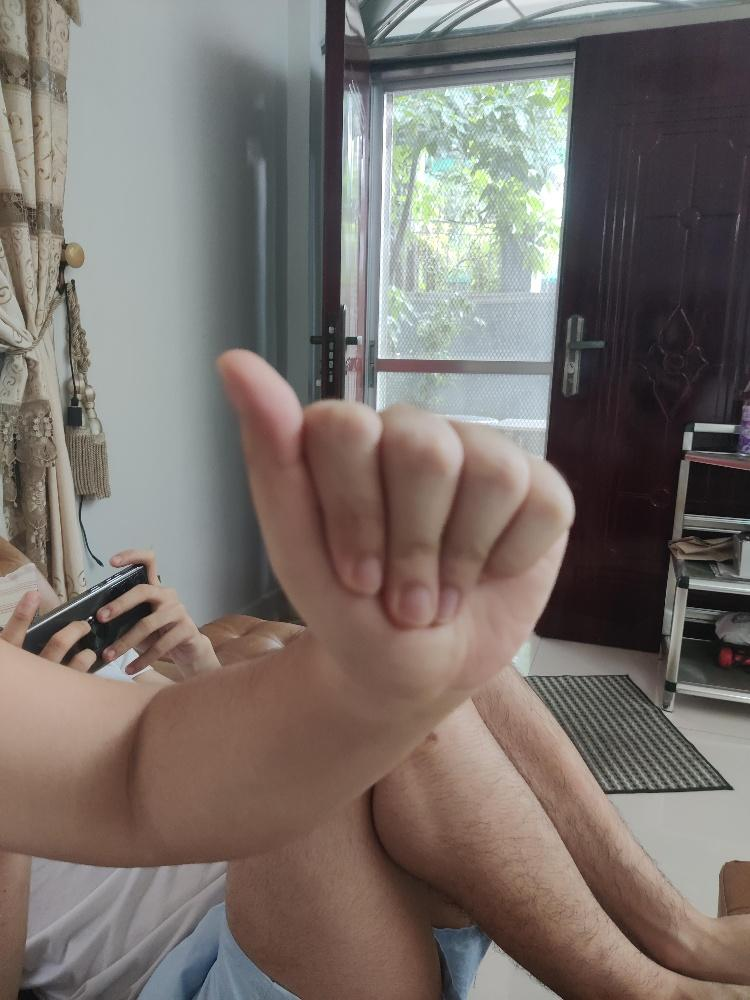a: (214, 345, 575, 691)
